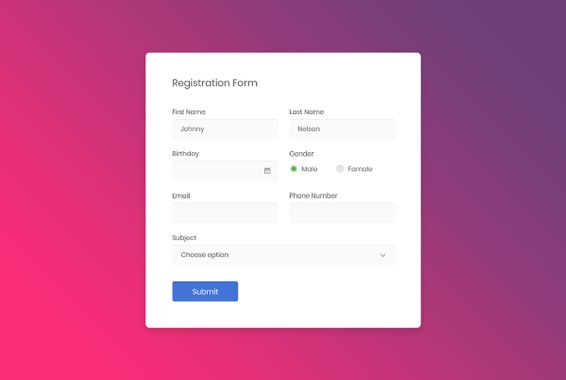_form_: (138, 62, 456, 337)
button: (171, 280, 240, 303)
field: (170, 199, 278, 225), (284, 199, 396, 224), (171, 157, 282, 182), (170, 116, 278, 140), (287, 116, 395, 137)
field_with_label: (168, 234, 398, 268), (168, 191, 281, 227), (168, 149, 285, 183), (167, 107, 280, 142), (283, 191, 399, 225), (285, 107, 399, 139)
radio: (289, 163, 299, 175), (335, 164, 345, 173)
radio_with_label: (335, 162, 378, 176), (288, 162, 320, 177)
select: (169, 243, 396, 266)
